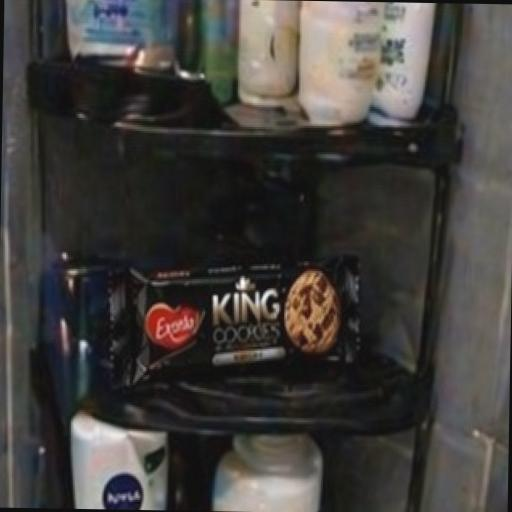king_cooking: (45, 182, 459, 480)
